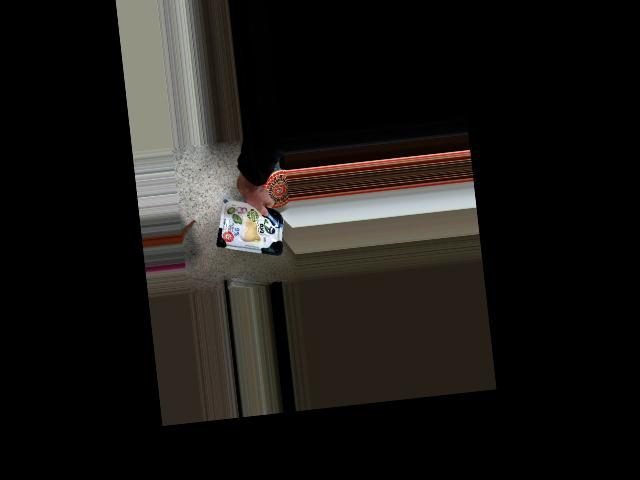cheese: (215, 193, 287, 261)
